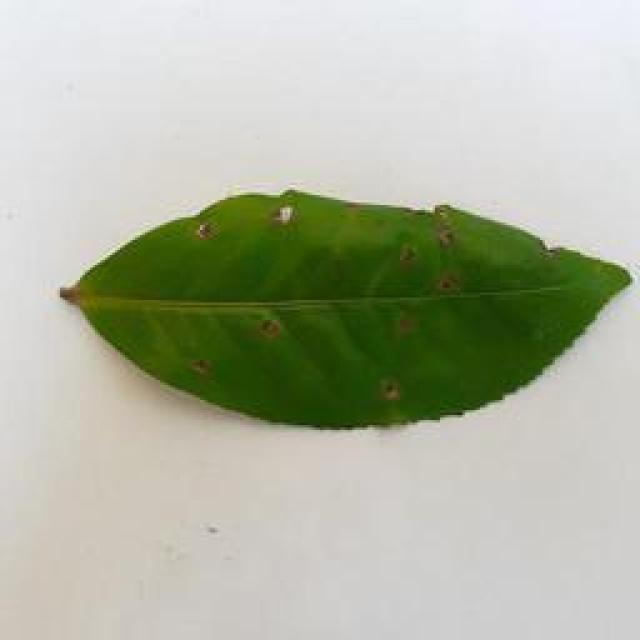Helopeltis: (48, 170, 640, 442)
